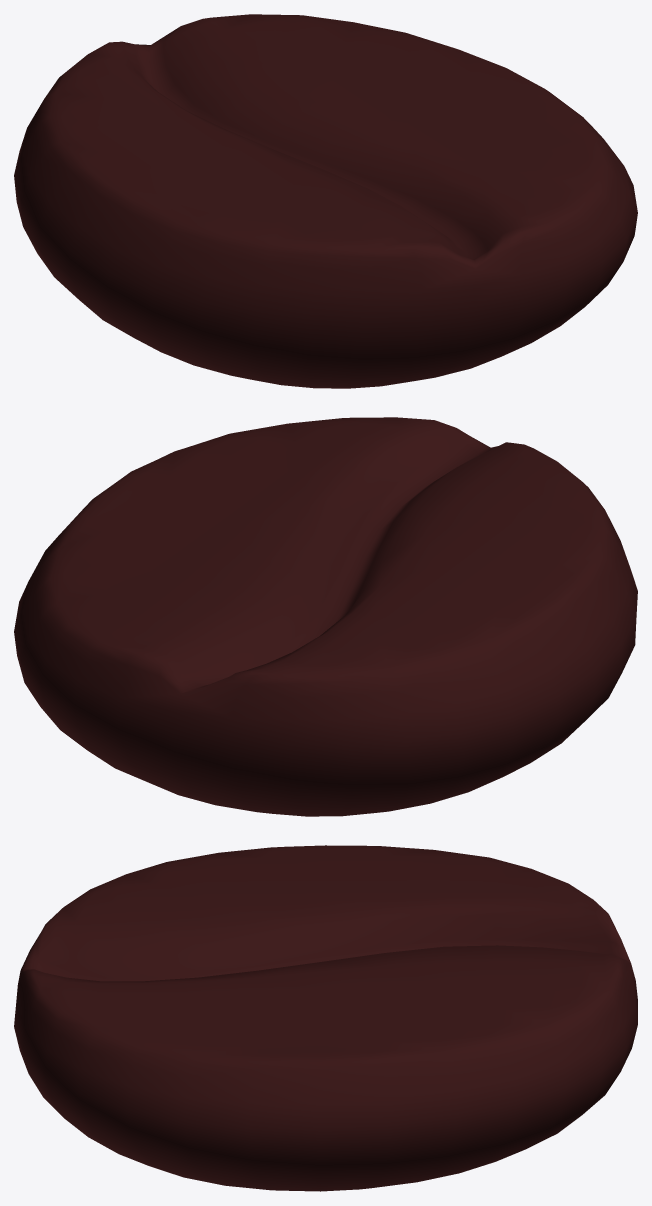
Rendered from coffee_bean.glb.
3 renders of one model, top to bottom at view 1: azimuth 30°, elevation 25°; view 2: azimuth 150°, elevation 25°; view 3: azimuth 270°, elevation 25°, orthographic. The views are drawn at different scales.
Visible parts, largest first — view 1: Coffee Bean001; view 2: Coffee Bean001; view 3: Coffee Bean001.
Boxes of the visible parts, x1,y1,x2,y2 form: Coffee Bean001: [14, 14, 637, 388]; Coffee Bean001: [14, 417, 637, 816]; Coffee Bean001: [14, 845, 637, 1191].
Bounding box in the file's own units: 0.00246 × 0.000936 × 0.00268.
